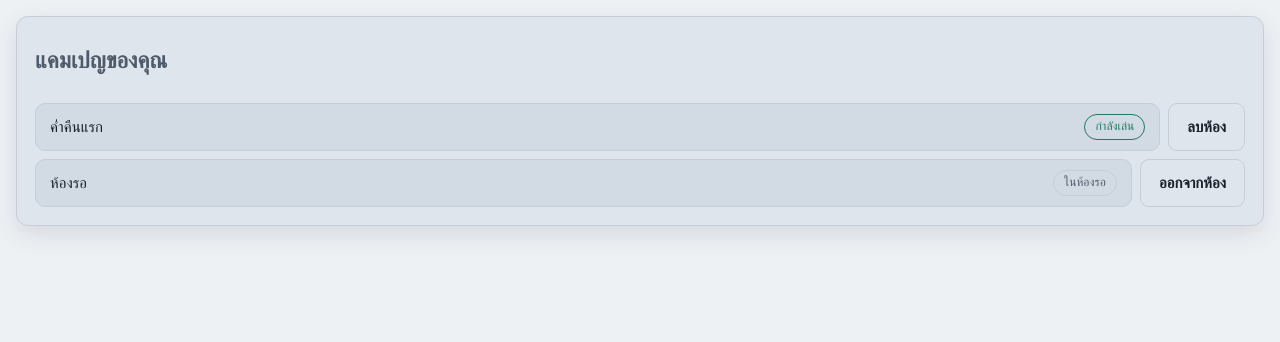
Test: MyCampaigns › leaves the room via POST /api/campaigns/[id]/leave and removes the row
Click the button "ออกจากห้อง": point(1192, 183) [1140,159,1245,207]
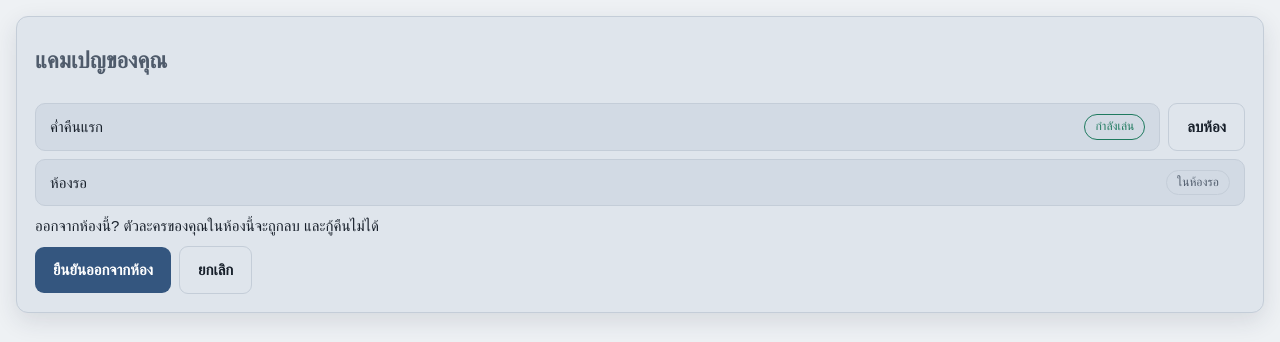
Click the button "ยืนยันออกจากห้อง": point(103, 270) [35,247,171,293]
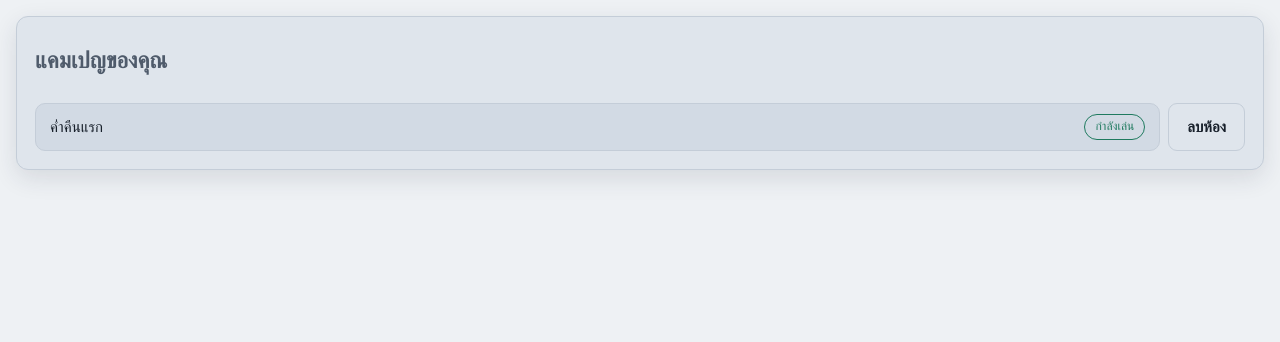
Expected: the text "ค่ำคืนแรก" is shown, [50,115,103,139]
Expected: the link "ห้องรอ" is gone
